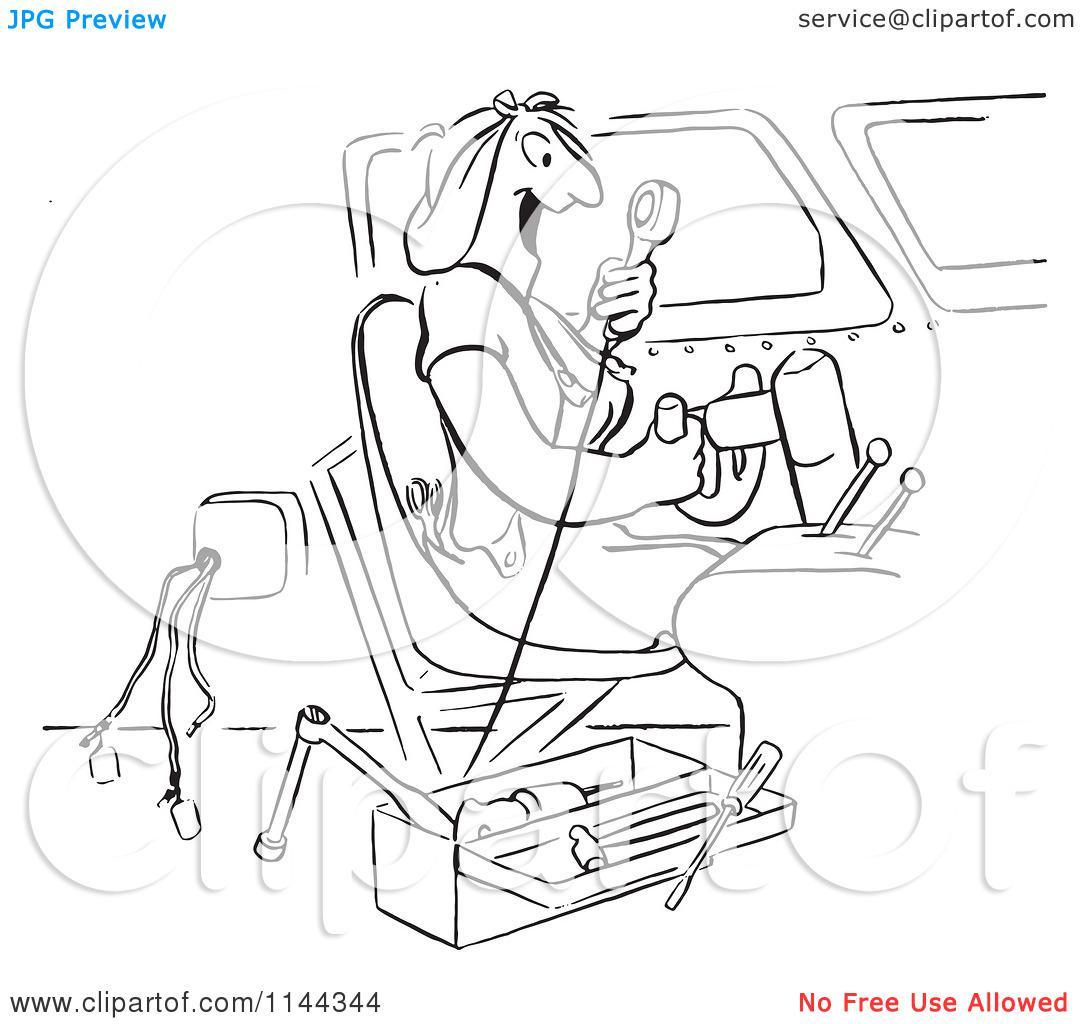chair: (321, 281, 664, 753)
person: (387, 84, 711, 657)
